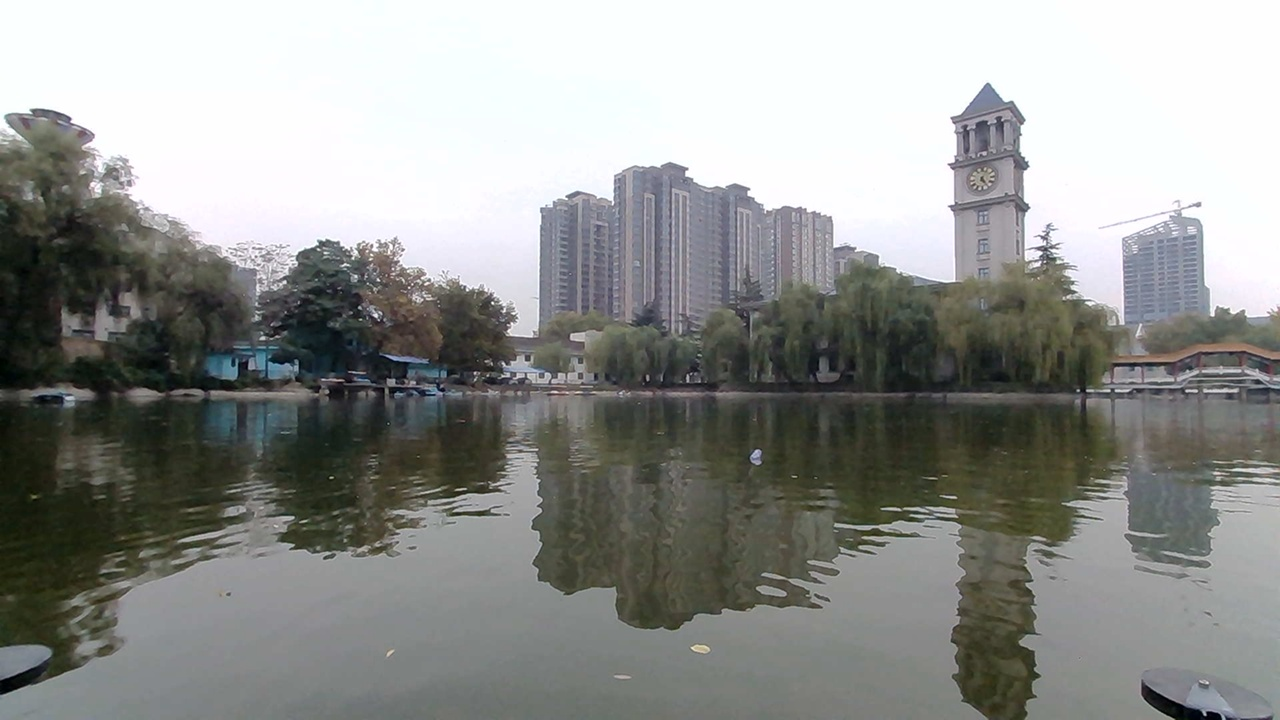bottle: (732, 439, 781, 471)
